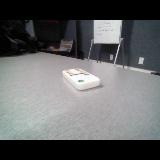domino: (62, 69, 99, 90)
